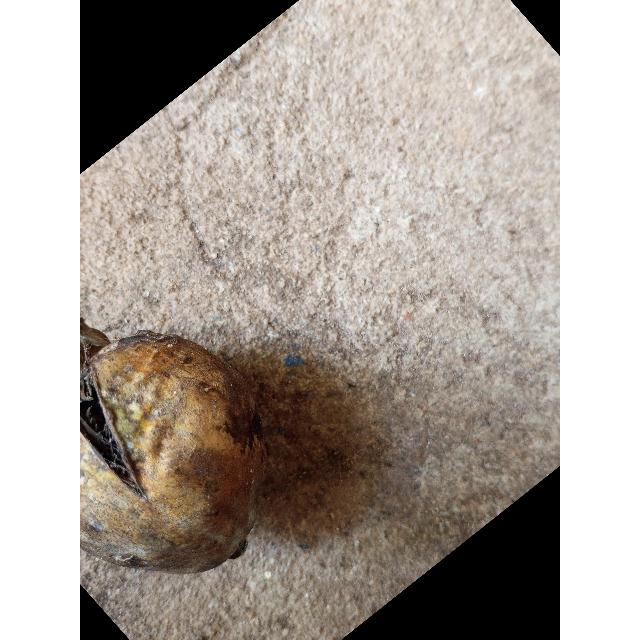damaged: (80, 323, 266, 573)
